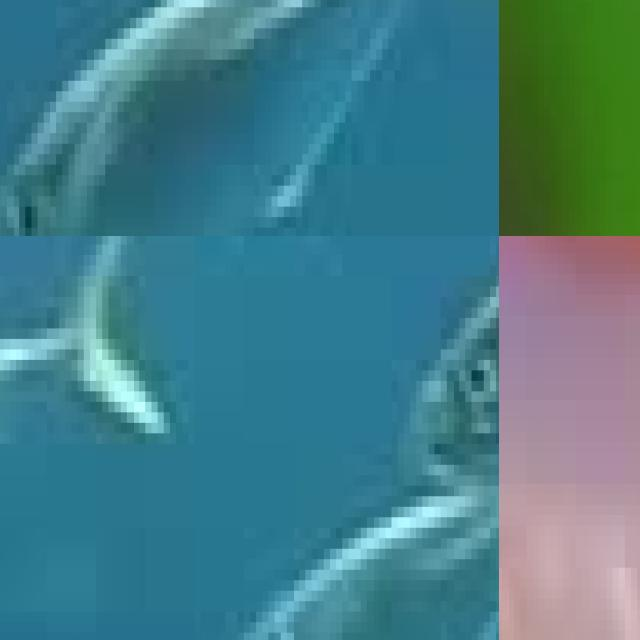fish: (0, 0, 499, 236), (499, 236, 640, 640)
